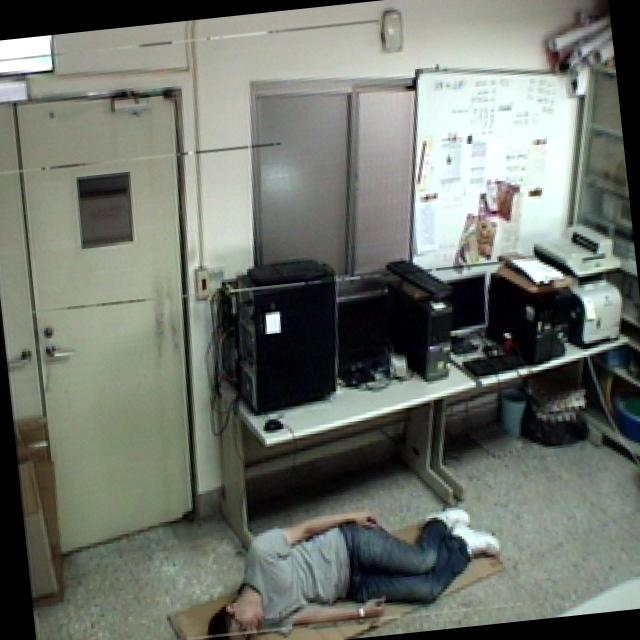lie: (184, 473, 515, 640)
